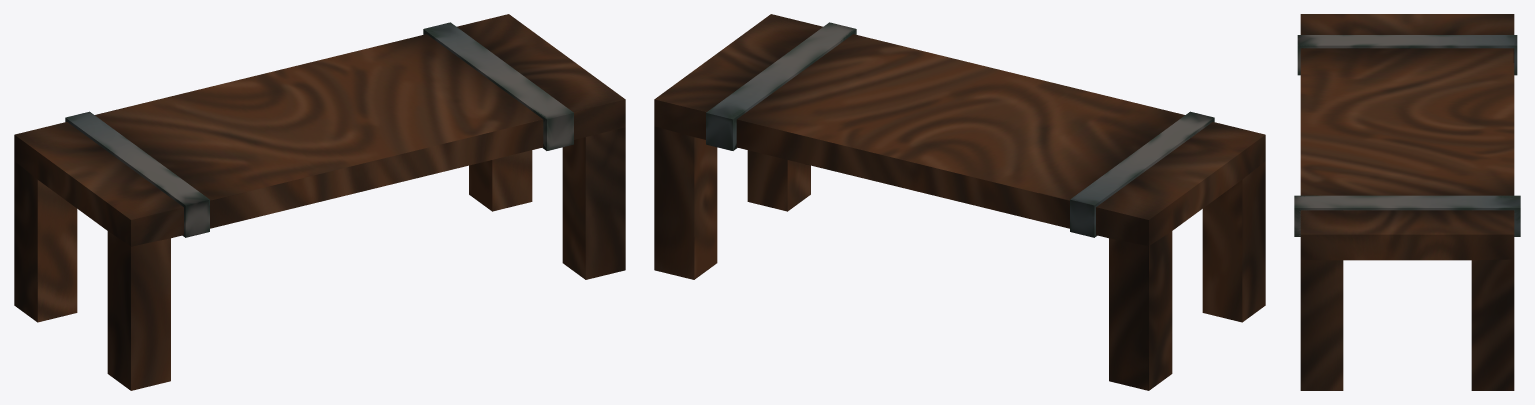
File: table02.obj
3 views of the same model, side by side, from view 1: azimuth 30°, elevation 25°; view 2: azimuth 150°, elevation 25°; view 3: azimuth 270°, elevation 25° (orthographic). The views are drawn at different scales.
Parts seen in each view (by area): view 1: Mesa_Cube.014; view 2: Mesa_Cube.014; view 3: Mesa_Cube.014.
Boxes of the visible parts, left/top/right/bottom form: Mesa_Cube.014: left=14, top=14, right=625, bottom=390; Mesa_Cube.014: left=654, top=14, right=1265, bottom=390; Mesa_Cube.014: left=1294, top=14, right=1520, bottom=390.
Bounding box in the file's own units: 3.11 × 1.04 × 1.35.
